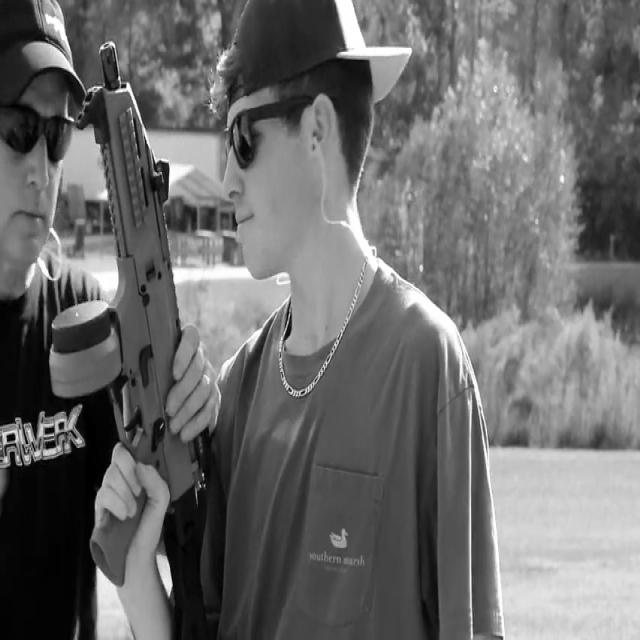Sub-machine-gun: (0, 35, 216, 640)
